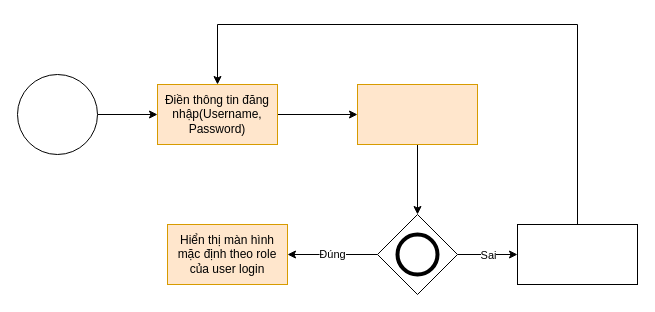
Image size: 655x312. Some labels were removed from this diagram. The shapes that lost their labels are listed below. From the top down, each one's centre as x and y in pixels, then its label:
point (417, 114): Kiểm tra thông tin nhập vào
point (577, 254): Thông báo: Sai thông tin đăng nhập
